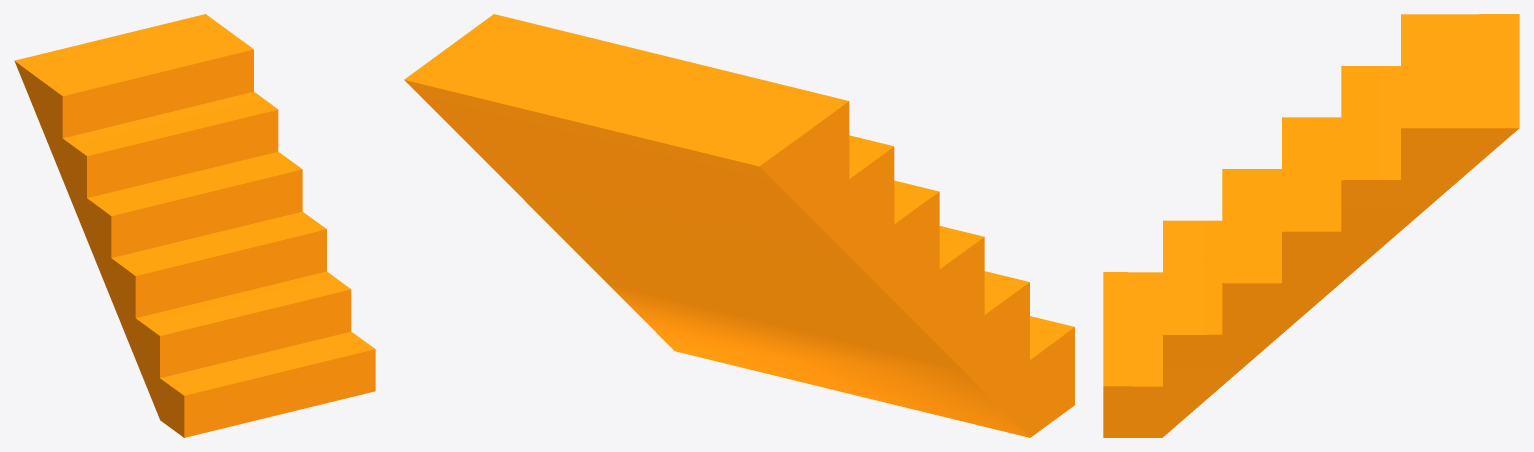
The model's file is BaseStairs.002.glb.
3 renders of one model, left to right at view 1: azimuth 30°, elevation 25°; view 2: azimuth 150°, elevation 25°; view 3: azimuth 270°, elevation 25°, orthographic. The views are drawn at different scales.
Parts seen in each view (by area): view 1: BaseStairs.002; view 2: BaseStairs.002; view 3: BaseStairs.002.
Boxes of the visible parts, x1,y1,x2,y2 form: BaseStairs.002: (14,14,375,437); BaseStairs.002: (404,14,1074,437); BaseStairs.002: (1103,14,1519,437).
Size of what is drawn, in the model's own units: 1.36 by 1.71 by 2.09.
Materials: 1 (1 with a texture image).
